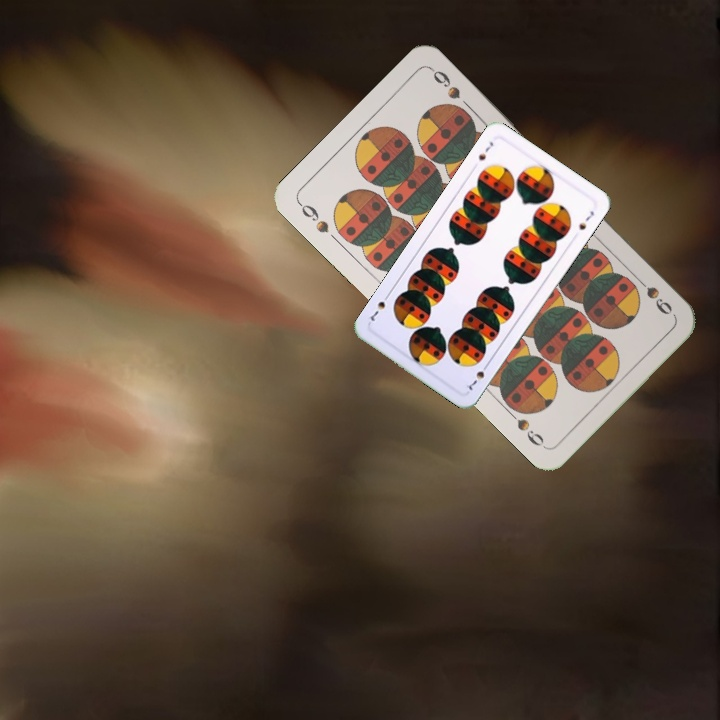S7: (463, 359, 492, 393), (474, 137, 496, 163)
S9: (630, 271, 675, 317), (294, 198, 332, 236)
